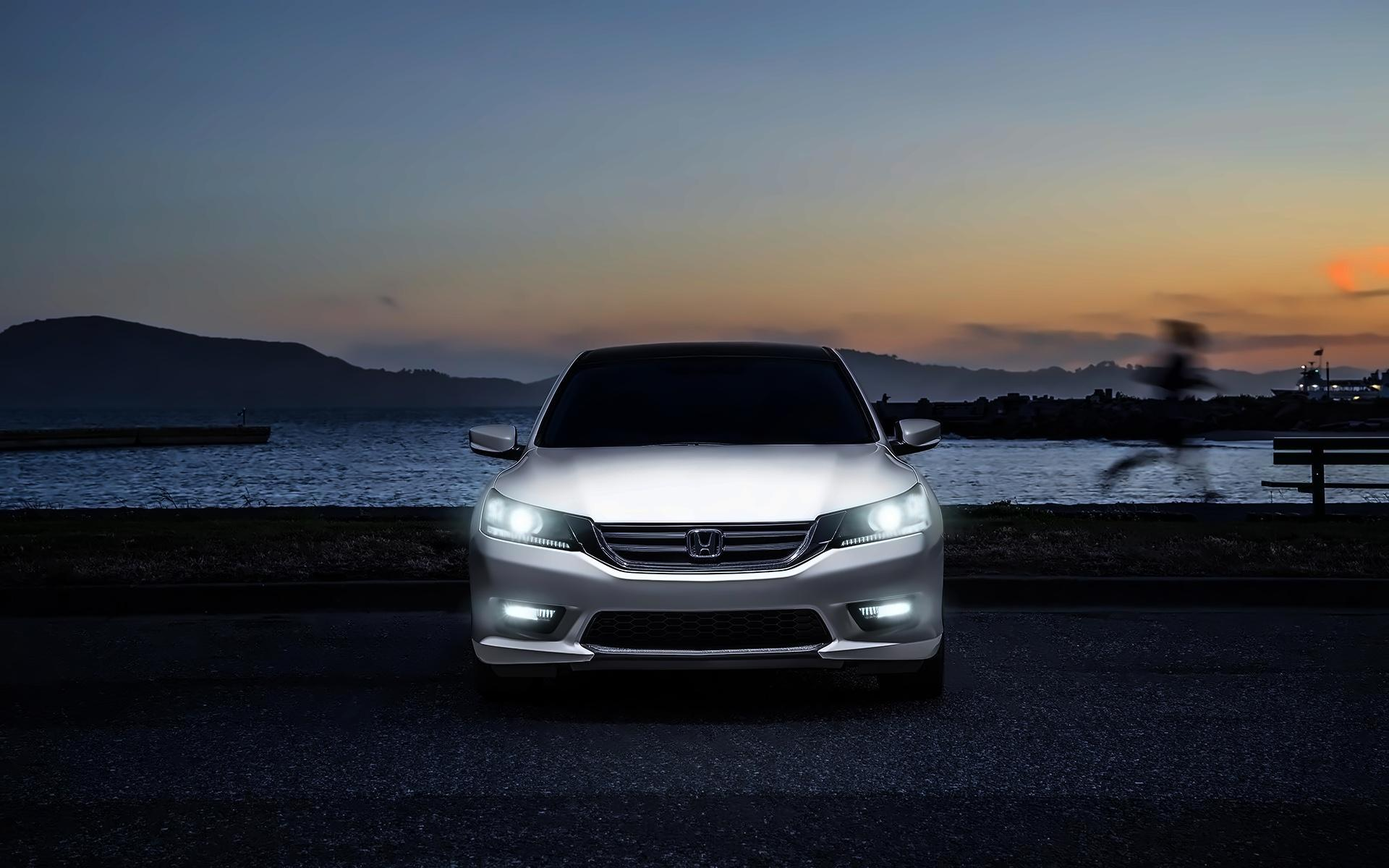Car hood: (489, 439, 923, 529)
Front bumper: (456, 550, 954, 684)
Headlight - -L-: (822, 478, 940, 555)
Headlight - -R-: (470, 482, 592, 558)
Side mirror - -L-: (878, 412, 956, 468)
Side mirror - -R-: (457, 417, 535, 465)
